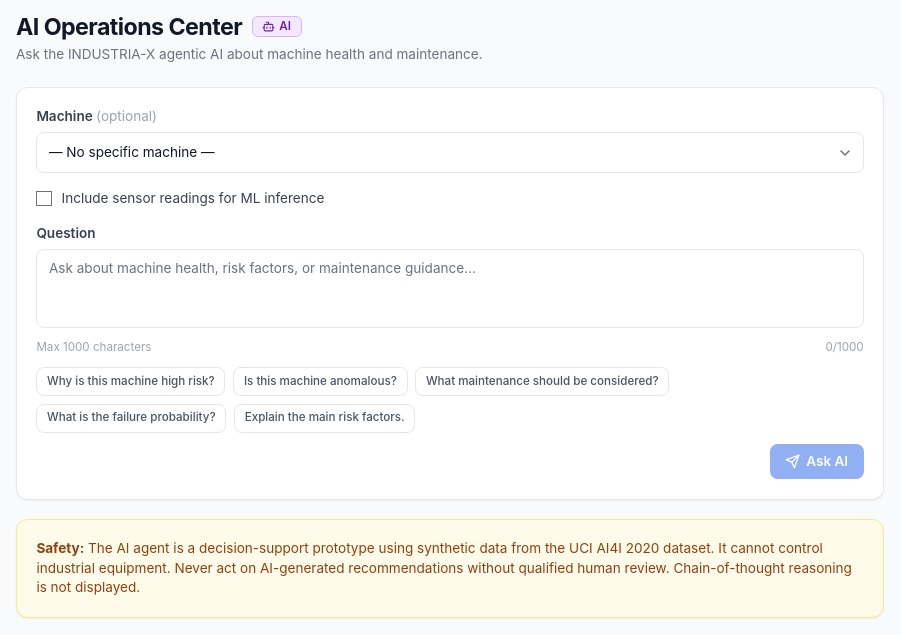
Test: AIOperationsPage — query submission › fills query from suggestion click
Click the button "Why is this machine high risk?" at (131, 381), box x1=36 y1=367 x2=226 y2=396
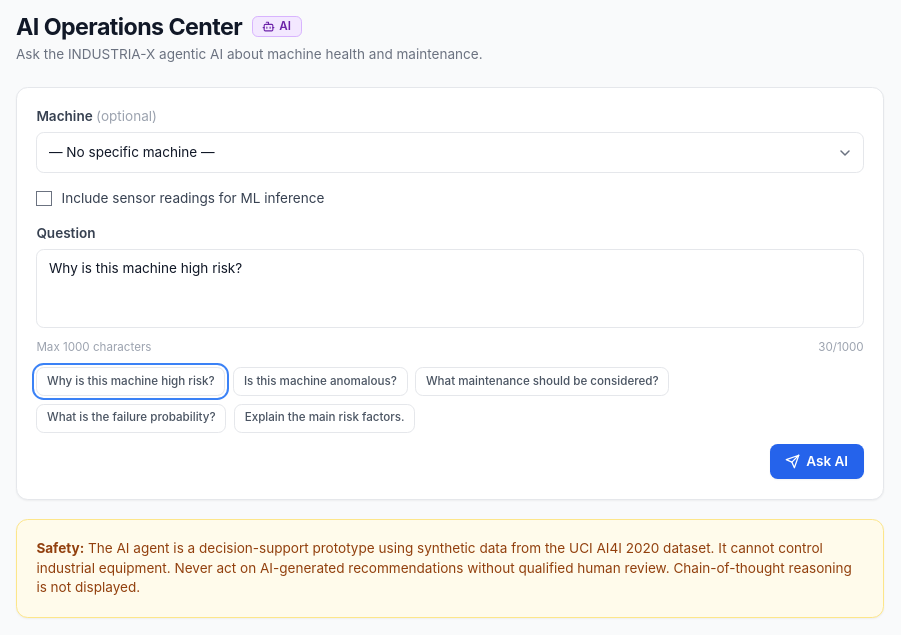
Check: the text box named "AI query" holds "Why is this machine high risk?", box x1=36 y1=249 x2=864 y2=328
